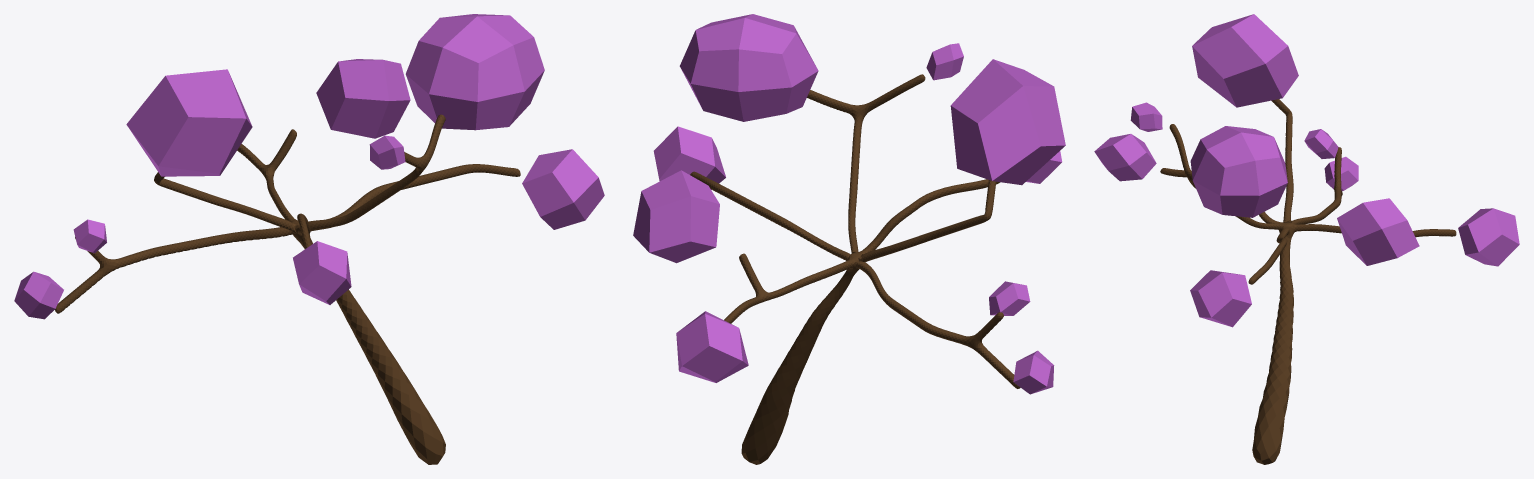
Rendered from weird tree for whispering tales.fbx.
3 views of the same model, side by side, from view 1: azimuth 30°, elevation 25°; view 2: azimuth 150°, elevation 25°; view 3: azimuth 270°, elevation 25° (orthographic). The views are drawn at different scales.
Parts seen in each view (by area): view 1: Cube.009; view 2: Cube.009; view 3: Cube.009.
Boxes of the visible parts, left/top/right/bottom form: Cube.009: left=14, top=14, right=604, bottom=464; Cube.009: left=633, top=14, right=1065, bottom=464; Cube.009: left=1094, top=14, right=1519, bottom=464.
Bounding box in the file's own units: 2345 × 2093 × 2281.
